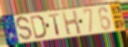6: (97, 6, 113, 32)
7: (82, 8, 94, 34)
D: (30, 15, 47, 40)
H: (61, 9, 83, 36)
S: (16, 15, 33, 43)
T: (48, 12, 61, 37)
